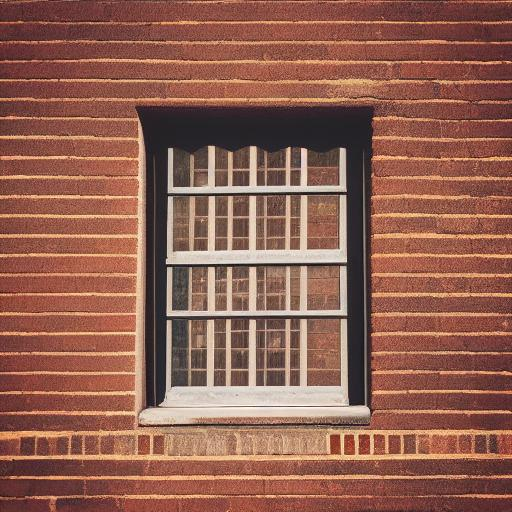Window: (129, 101, 378, 428)
